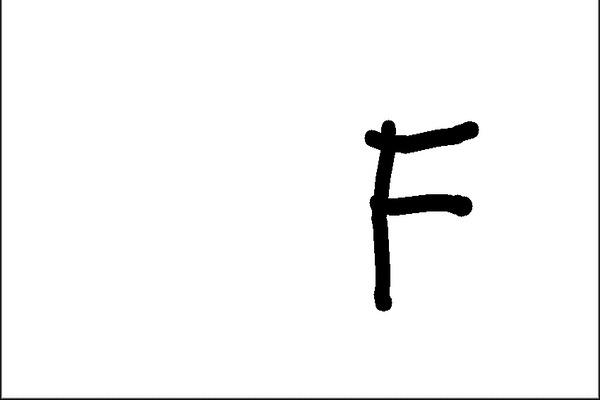F: (358, 112, 486, 314)
